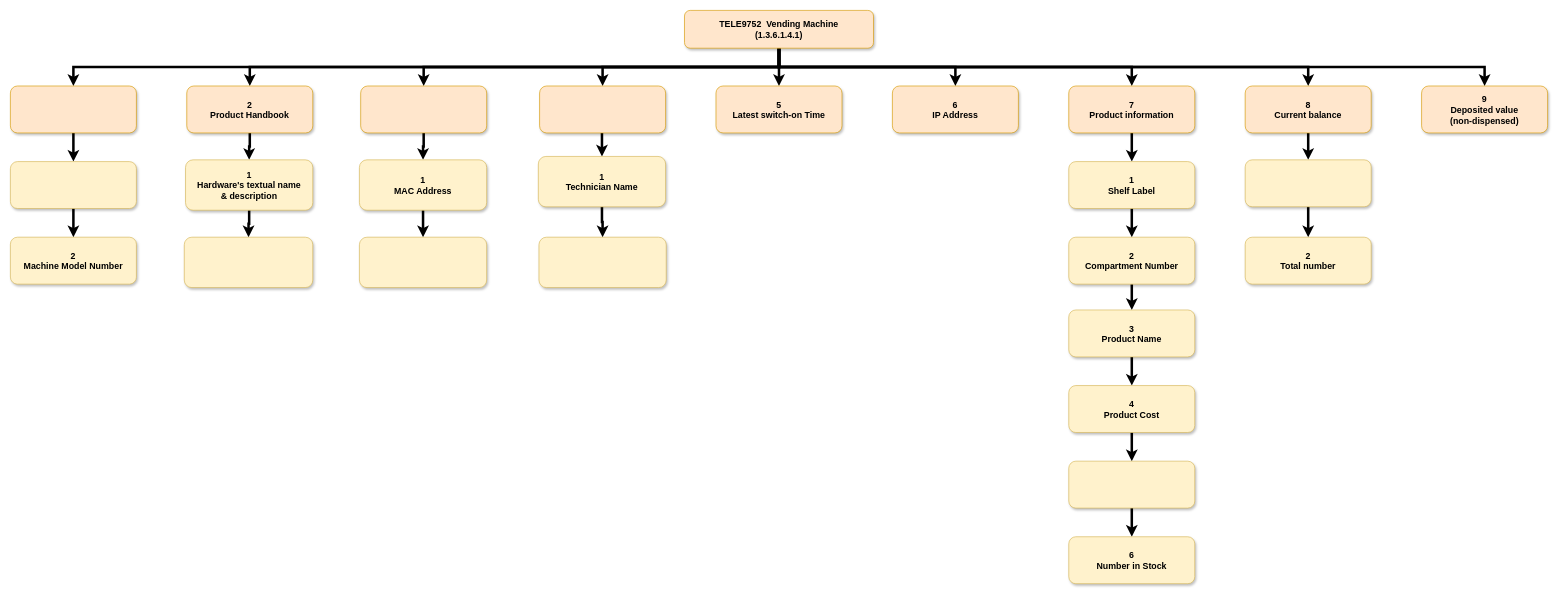
This 1558x594 diagram has some shape labels left out. The centre of each missing label's shape, as x and y in pixels:
"1 Denomination" belongs at point (1308, 184).
"1 Machine Model Name" belongs at point (73, 185).
"1 Machine Spec" belongs at point (73, 110).
"2 Global Address" belongs at point (423, 263).
"2 Software's textual name & description" belongs at point (249, 263).
"2 Technician Phone number" belongs at point (603, 263).
"3 Physical Location" belongs at point (424, 110).
"4 After-sale contact" belongs at point (602, 110).
"5 Number Dispensed" belongs at point (1132, 485).
